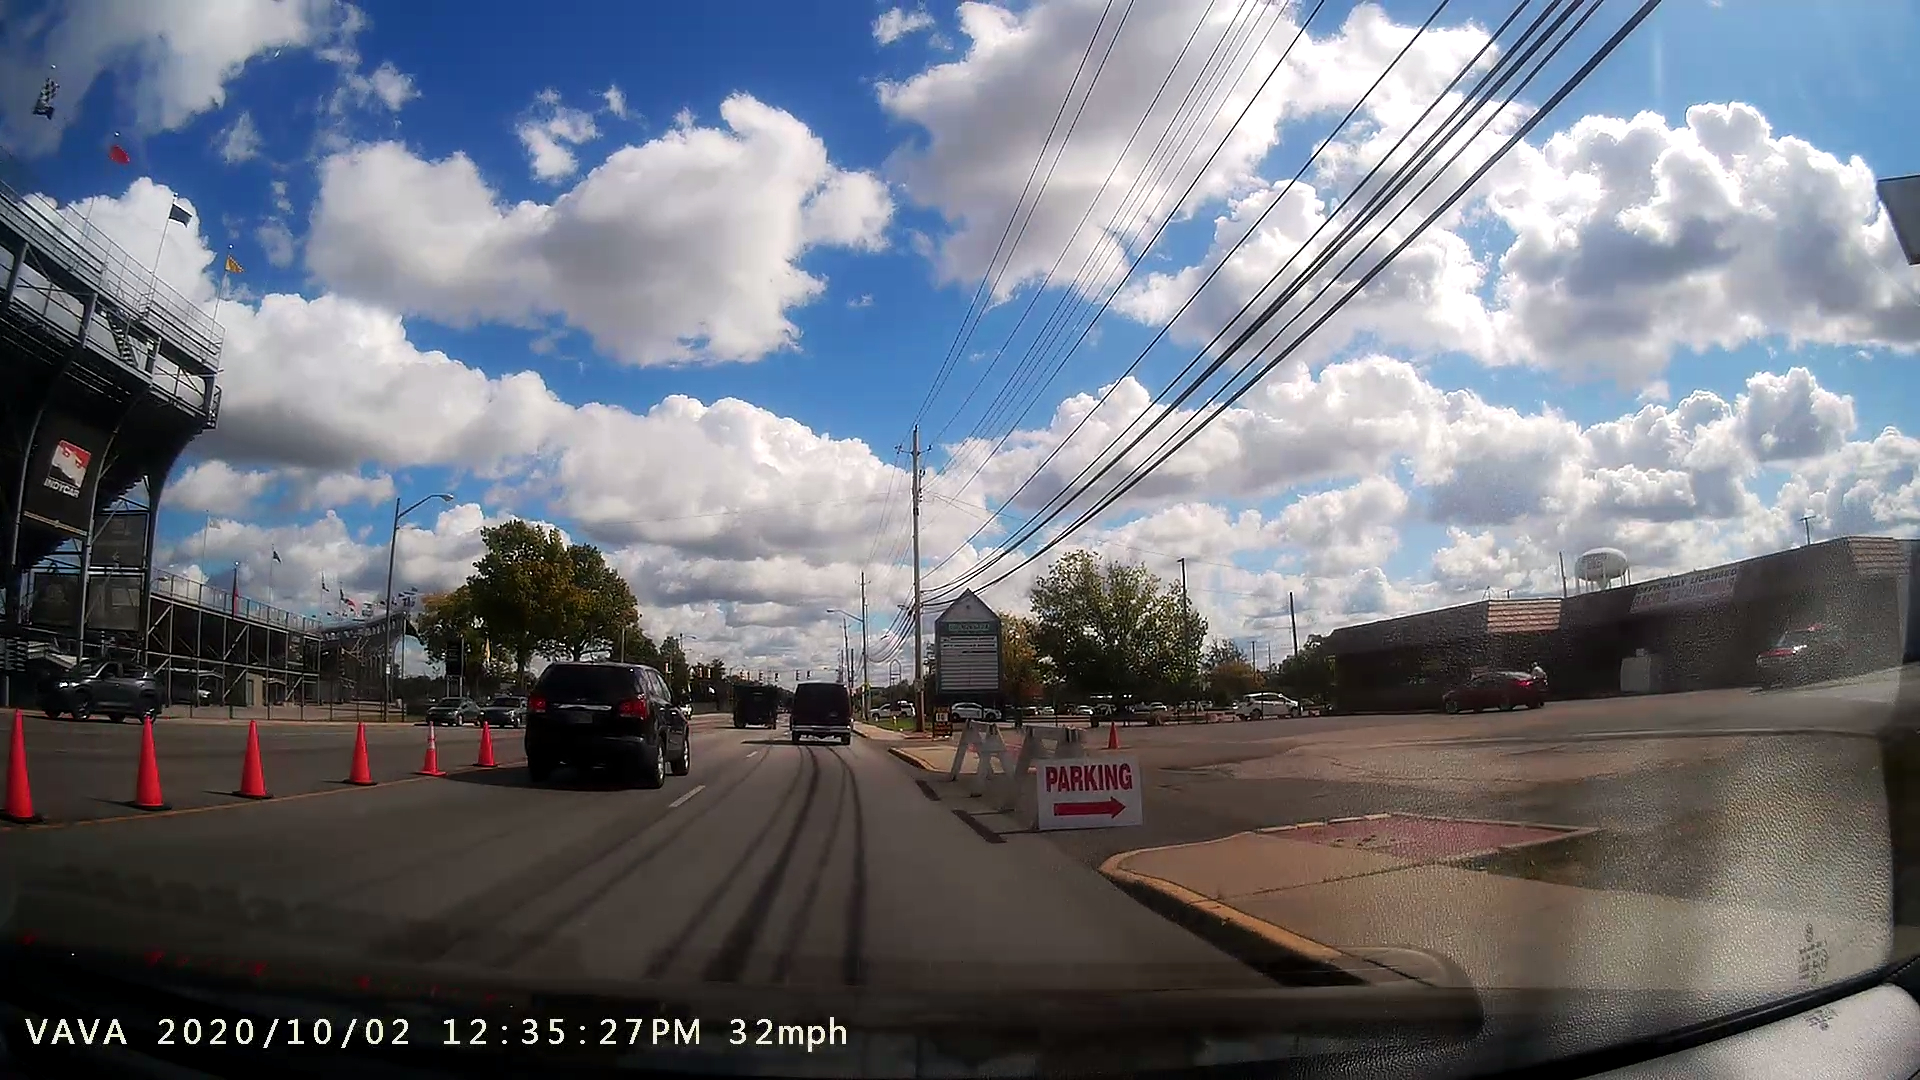const_cone: (107, 705, 179, 819), (328, 715, 394, 806), (212, 709, 274, 804), (400, 700, 452, 786), (469, 708, 513, 775)
